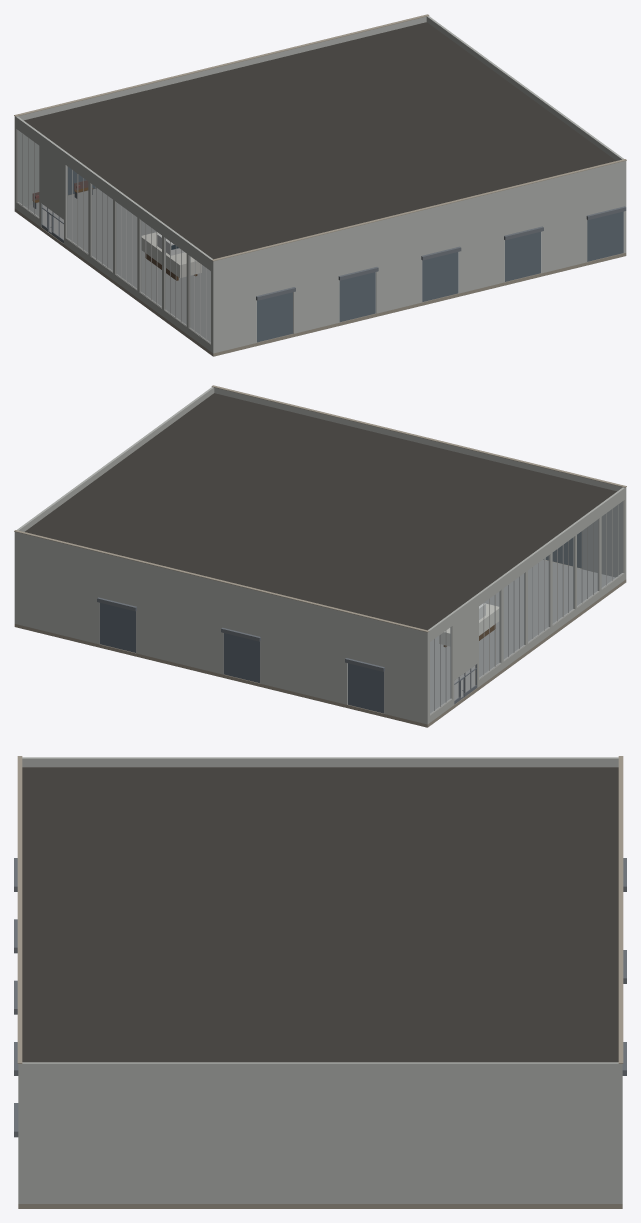
Rendered from coast_guard_boathouse.glb.
3 renders of one model, top to bottom at view 1: azimuth 30°, elevation 25°; view 2: azimuth 150°, elevation 25°; view 3: azimuth 270°, elevation 25°, orthographic. The views are drawn at different scales.
Visible parts, largest first — view 1: LOD0, FURN; view 2: LOD0, FURN; view 3: LOD0.
Boxes of the visible parts, bbox=[...] form: LOD0: bbox=[14, 14, 626, 356]; FURN: bbox=[32, 180, 201, 280]; LOD0: bbox=[14, 385, 626, 727]; FURN: bbox=[439, 603, 499, 647]; LOD0: bbox=[14, 756, 626, 1208].
Size of what is drawn, in the model's own units: 60.1 by 13.33 by 50.7.
